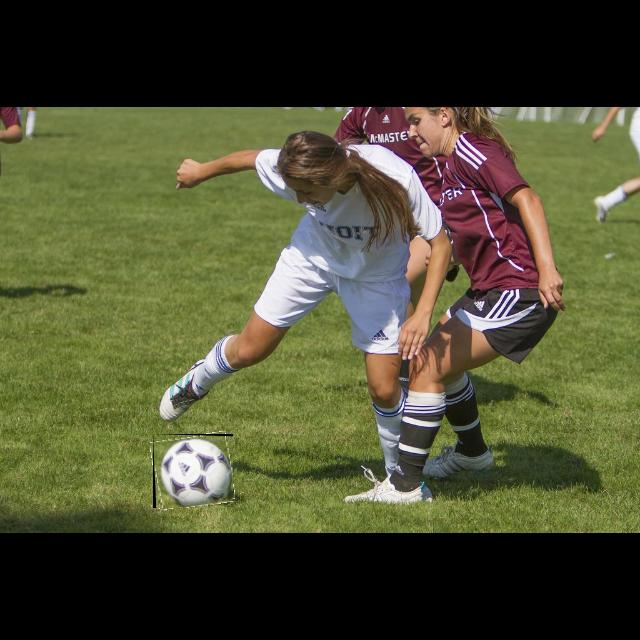Football: (153, 434, 233, 508)
